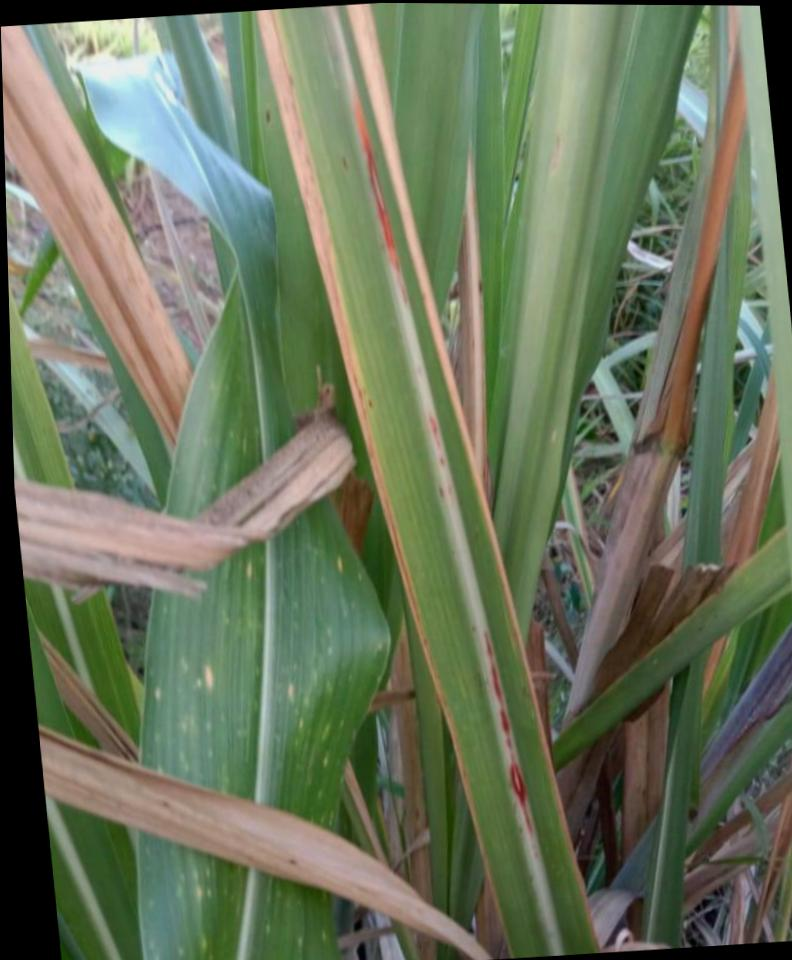RedRot: (484, 628, 542, 861), (355, 90, 409, 307), (428, 412, 453, 495)
Yellow: (256, 10, 514, 958), (347, 3, 596, 940)
